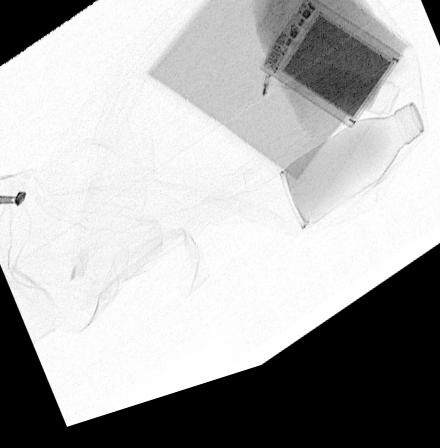Powerbank: (257, 10, 403, 149)
